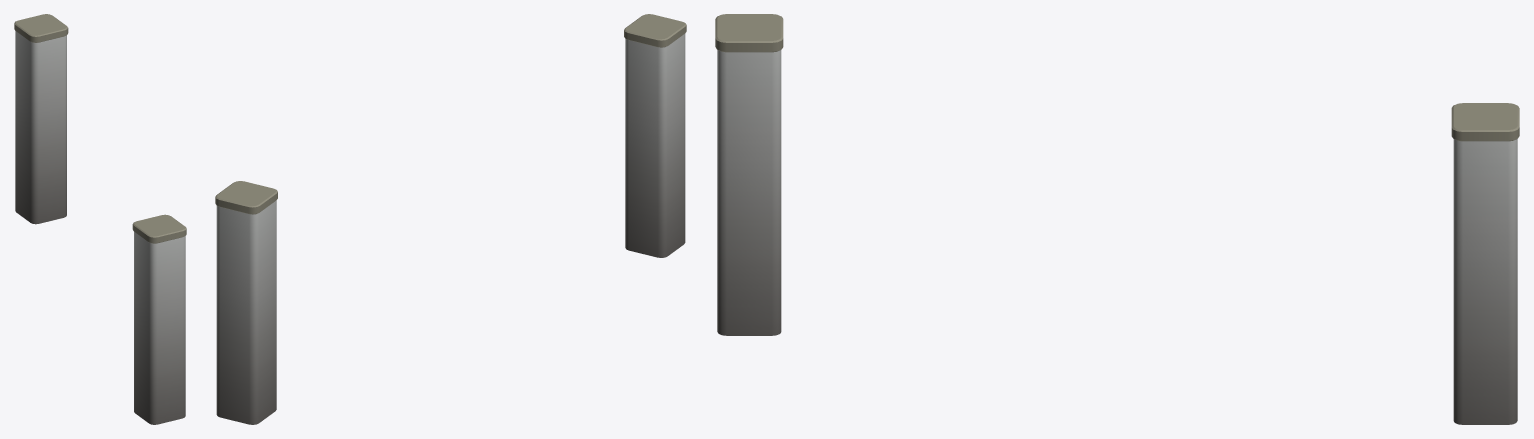
File: pillars.fbx
3 renders of one model, left to right at view 1: azimuth 30°, elevation 25°; view 2: azimuth 150°, elevation 25°; view 3: azimuth 270°, elevation 25°, orthographic. The views are drawn at different scales.
Visible parts, largest first — view 1: pillar, pillar_001; view 2: pillar, pillar_001; view 3: pillar_001, pillar.
Part boxes in pixels (left/top/right/bottom): pillar: left=14, top=14, right=68, bottom=224; pillar_001: left=132, top=214, right=186, bottom=424; pillar: left=215, top=181, right=277, bottom=424; pillar_001: left=624, top=14, right=686, bottom=257; pillar_001: left=715, top=14, right=783, bottom=335; pillar: left=1451, top=103, right=1519, bottom=424.
Bounding box in the file's own units: 308 × 360 × 889.
